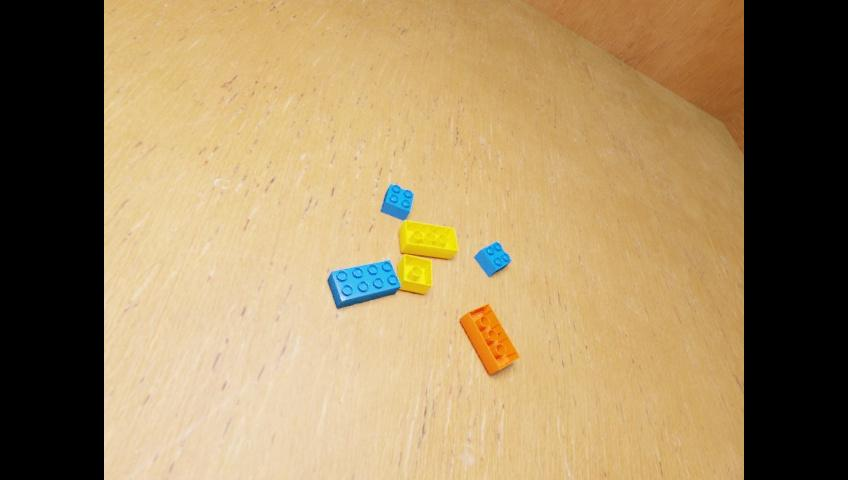2x2_blue: (473, 240, 511, 276), (381, 183, 413, 220)
2x2_yellow: (397, 253, 431, 293)
4x2_blue: (326, 259, 400, 308)
4x2_orange: (459, 302, 519, 374)
4x2_yellow: (398, 219, 457, 258)
